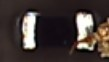COMP: (12, 9, 100, 54)
STAN: (71, 32, 109, 49), (97, 18, 109, 59)
